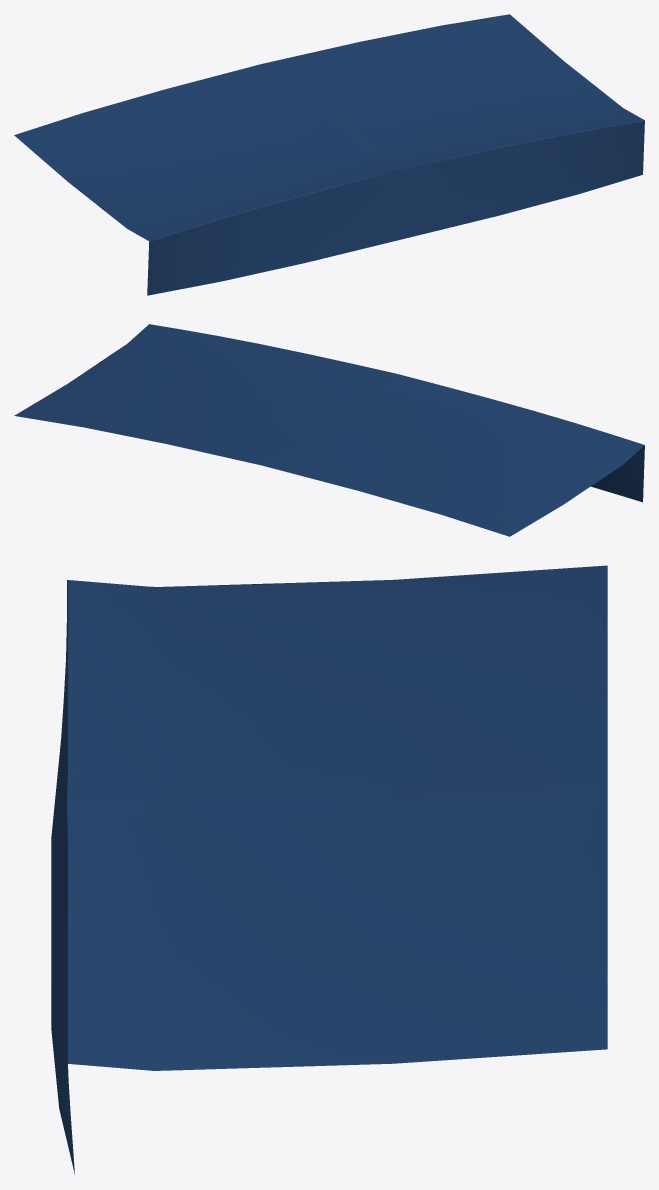
File: GEO_Trunk.glb
3 renders of one model, top to bottom at view 1: azimuth 30°, elevation 25°; view 2: azimuth 150°, elevation 25°; view 3: azimuth 270°, elevation 25°, orthographic. The views are drawn at different scales.
Parts seen in each view (by area): view 1: GEO_Trunk; view 2: GEO_Trunk; view 3: GEO_Trunk.
Part boxes in pixels (left/top/right/bottom): GEO_Trunk: left=14, top=14, right=644, bottom=295; GEO_Trunk: left=14, top=324, right=644, bottom=536; GEO_Trunk: left=51, top=565, right=607, bottom=1174.
Size of the model in its own units: 1.44 by 0.205 by 0.7.
